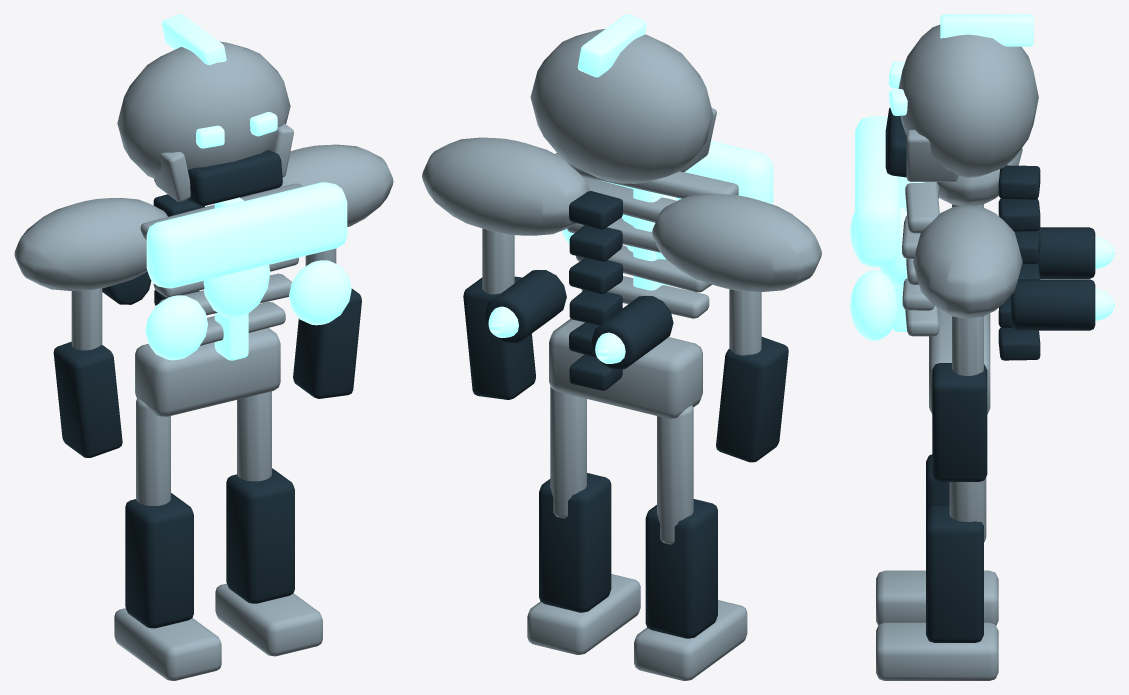
The model's file is Brute_CryoRevenant_Armor.fbx.
3 views of the same model, side by side, from view 1: azimuth 30°, elevation 25°; view 2: azimuth 150°, elevation 25°; view 3: azimuth 270°, elevation 25° (orthographic). The views are drawn at different scales.
Visible parts, largest first — view 1: Skull.007, RamPlate, Scapula_L.007, ShinBlade_R.007, ShinBlade_L.007, Pelvis.007, ForearmBlade_L.007, Scapula_R.007, ForearmBlade_R.007, Talon_L.007, Talon_R.007, Jaw.007 (+17 smaller); view 2: Skull.007, Scapula_L.007, Scapula_R.007, ShinBlade_R.007, ShinBlade_L.007, Pelvis.007, ForearmBlade_L.007, ForearmBlade_R.007, Talon_L.007, Talon_R.007, Femur_L.007, Femur_R.007 (+20 smaller); view 3: Skull.007, Scapula_R.007, ShinBlade_R.007, ForearmBlade_R.007, Talon_R.007, RamPlate, SoulJet_1.007, Talon_L.007, SoulJet_-1.007, ShockNode_1, CranialSpine.007, ArmBone_R.007 (+19 smaller).
Part boxes in pixels (x1,y1,x2,y2): Skull.007: (117, 41, 290, 178); RamPlate: (146, 182, 347, 288); Scapula_L.007: (14, 198, 167, 290); ShinBlade_R.007: (226, 468, 294, 603); ShinBlade_L.007: (125, 493, 193, 628); Pelvis.007: (135, 328, 280, 416); ForearmBlade_L.007: (53, 341, 122, 457); Scapula_R.007: (240, 144, 393, 226); ForearmBlade_R.007: (293, 288, 361, 398); Talon_L.007: (114, 608, 221, 680); Talon_R.007: (215, 583, 322, 656); Jaw.007: (187, 150, 282, 206); Skull.007: (530, 29, 713, 183); Scapula_L.007: (652, 193, 821, 291); Scapula_R.007: (422, 137, 589, 235); ShinBlade_R.007: (539, 473, 611, 612); ShinBlade_L.007: (645, 499, 717, 638); Pelvis.007: (549, 318, 702, 418); ForearmBlade_L.007: (716, 337, 788, 462); ForearmBlade_R.007: (463, 276, 535, 399); Talon_L.007: (634, 600, 747, 680); Talon_R.007: (527, 574, 640, 654); Femur_L.007: (657, 405, 693, 544); Femur_R.007: (550, 386, 586, 518); Skull.007: (898, 24, 1038, 177); Scapula_R.007: (913, 205, 1022, 318); ShinBlade_R.007: (926, 505, 983, 642); ForearmBlade_R.007: (932, 363, 987, 481); Talon_R.007: (876, 622, 998, 680); RamPlate: (855, 116, 899, 266); SoulJet_1.007: (1011, 279, 1095, 330); Talon_L.007: (876, 570, 998, 625); SoulJet_-1.007: (1038, 227, 1095, 278); ShockNode_1: (850, 270, 898, 340); CranialSpine.007: (940, 14, 1033, 46); ArmBone_R.007: (952, 316, 983, 375).
Bounding box in the file's own units: 278 × 429 × 164.
